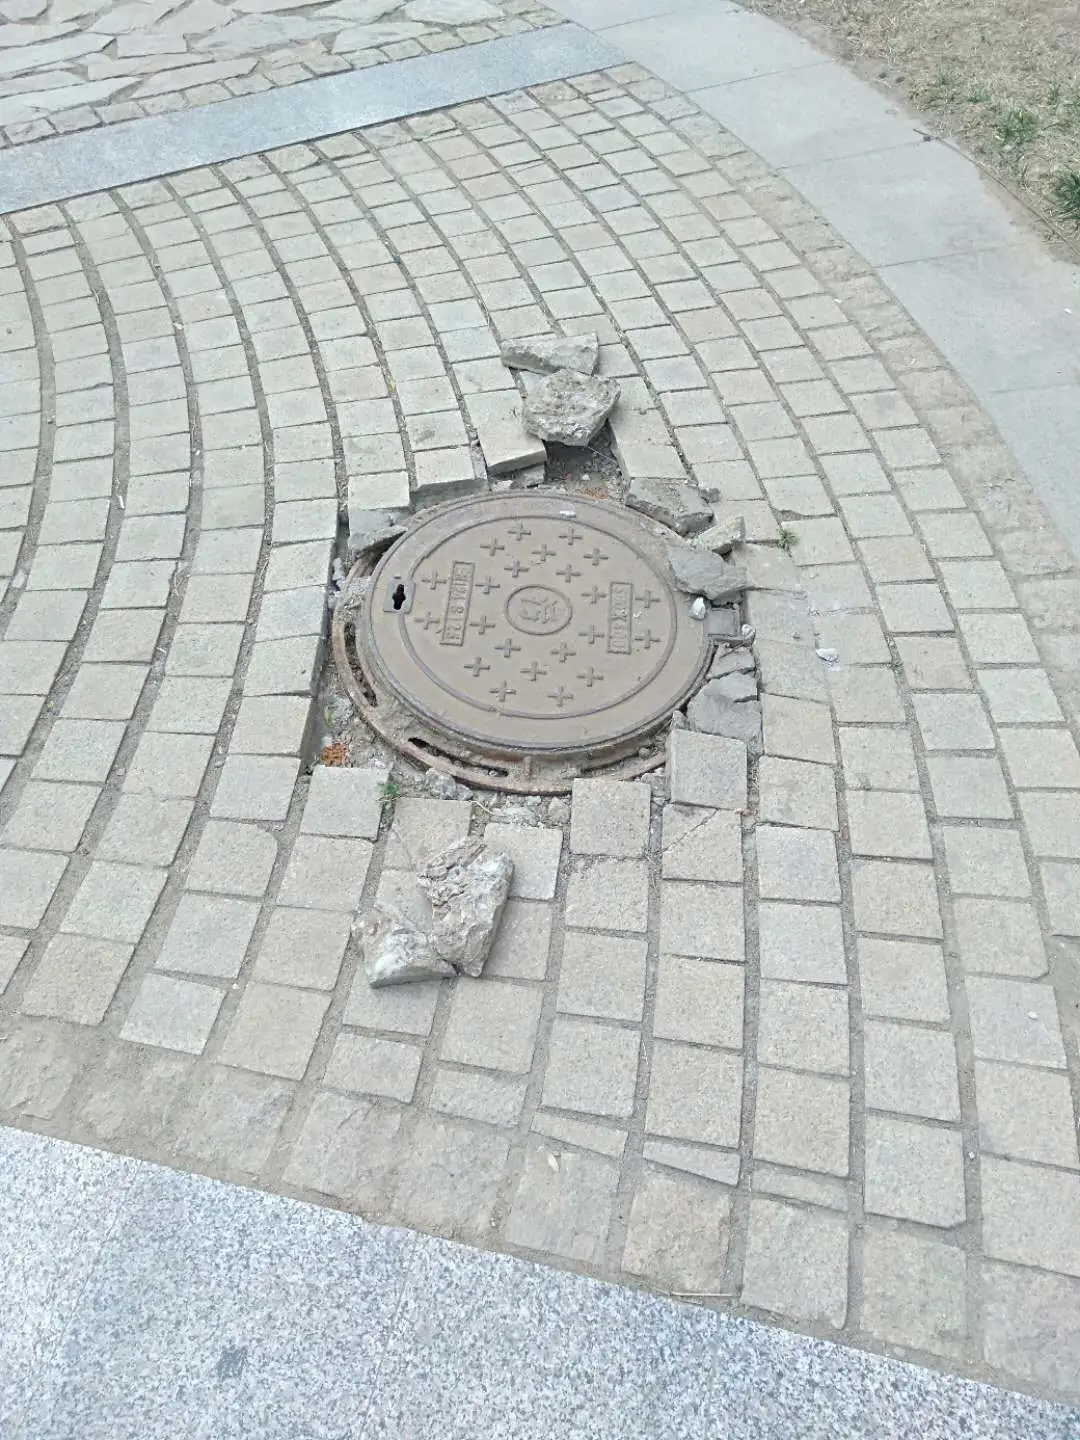circle: (259, 400, 819, 864)
